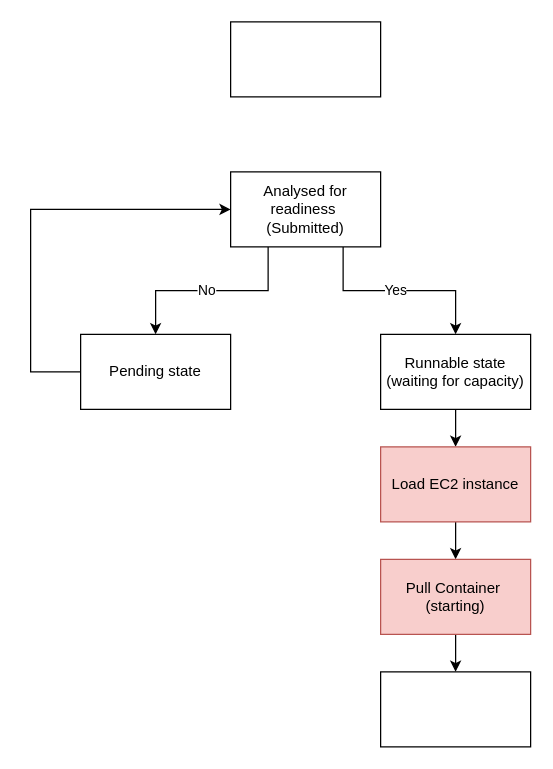
This 553x769 diagram has some shape labels left out. Here are the shapes that lost their labels. From the top down, the centre of each, then its label:
At (x=305, y=59): "Load into queue".
At (x=455, y=709): "Run job (Running)".
